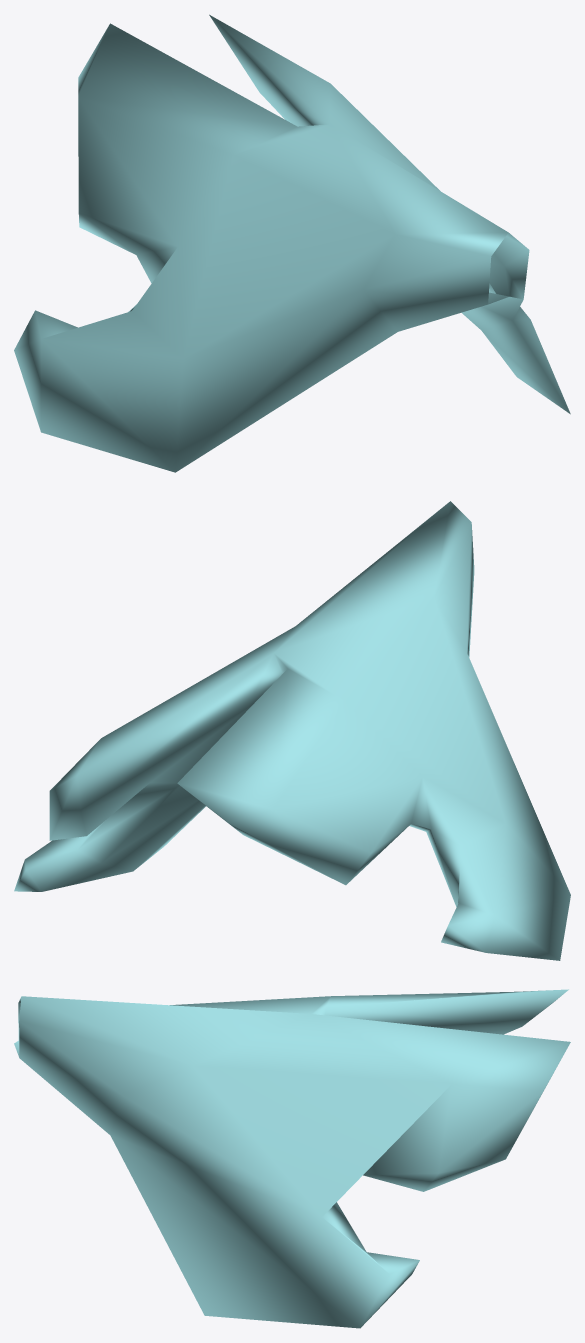
File: Shrimp_Fan_Cherry_LOD2.fbx
3 views of the same model, one above another, from view 1: azimuth 30°, elevation 25°; view 2: azimuth 150°, elevation 25°; view 3: azimuth 270°, elevation 25° (orthographic). The views are drawn at different scales.
Visible parts, largest first — view 1: Ch.Tail_fan_low_LOD2; view 2: Ch.Tail_fan_low_LOD2; view 3: Ch.Tail_fan_low_LOD2.
Part boxes in pixels (box(x1,y1,x2,y2)): Ch.Tail_fan_low_LOD2: box(14, 14, 570, 472); Ch.Tail_fan_low_LOD2: box(14, 501, 570, 960); Ch.Tail_fan_low_LOD2: box(14, 989, 570, 1328).
Size of the model in its own units: 51.23 by 28.97 by 58.46.
